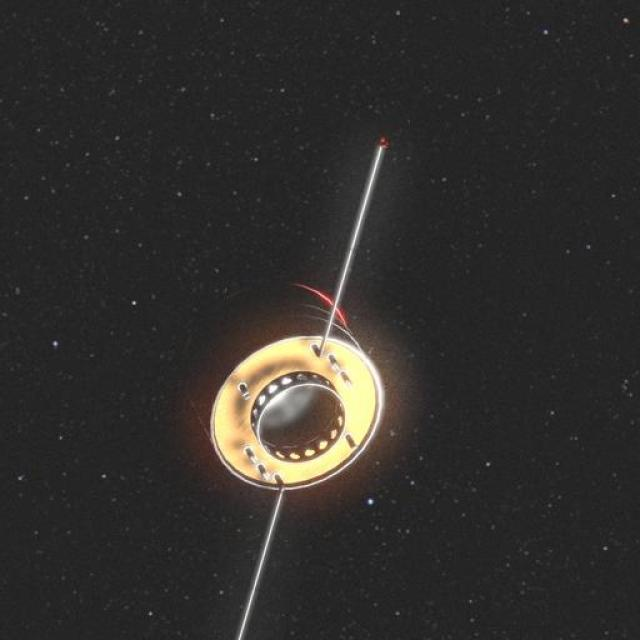double_start: (170, 247, 404, 514)
